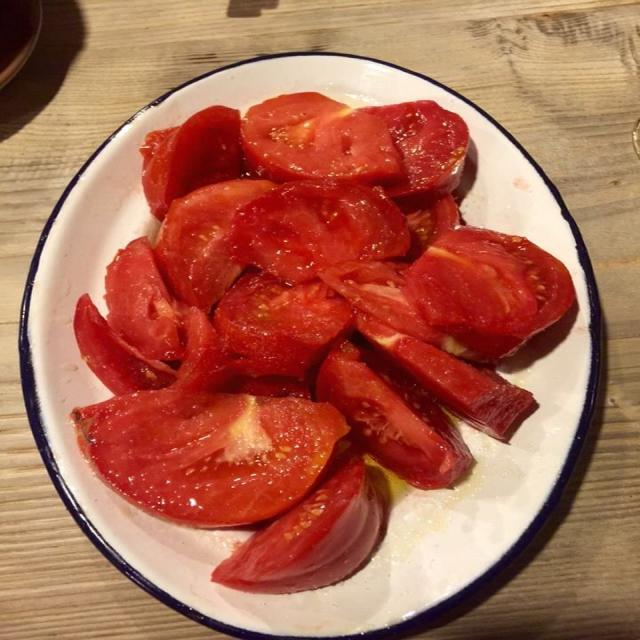sliced_tomato: (73, 388, 348, 527), (212, 457, 383, 593), (317, 344, 472, 489), (357, 315, 535, 439), (407, 227, 575, 358), (230, 180, 409, 282), (319, 262, 482, 359), (155, 180, 274, 311), (241, 92, 404, 183), (215, 273, 351, 377), (142, 106, 242, 219), (361, 101, 469, 196), (319, 261, 444, 343), (74, 294, 175, 395), (105, 237, 183, 360), (175, 308, 233, 390), (395, 194, 460, 259), (225, 376, 311, 399), (140, 127, 177, 170)
